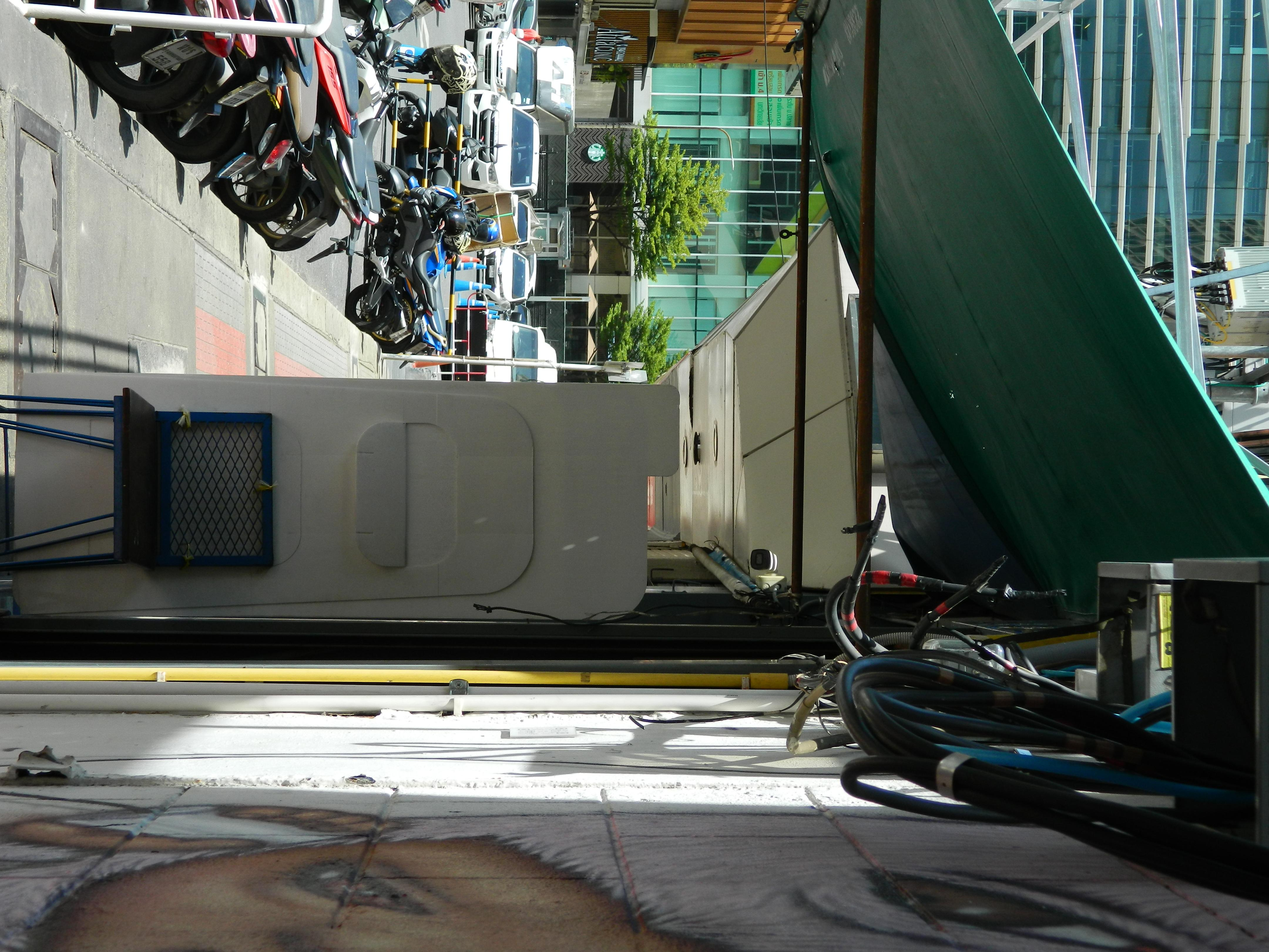wires-only: (769, 132, 1085, 331)
